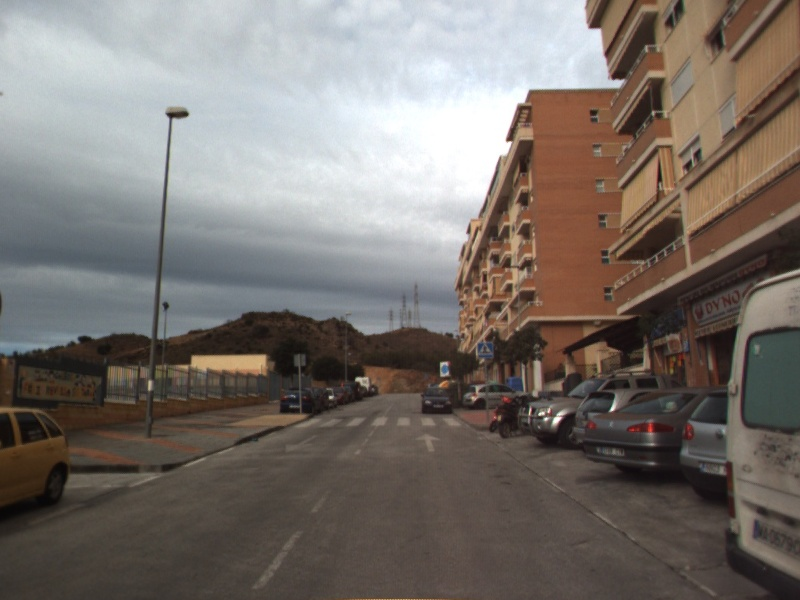STRAIGHT: (413, 431, 443, 454)
